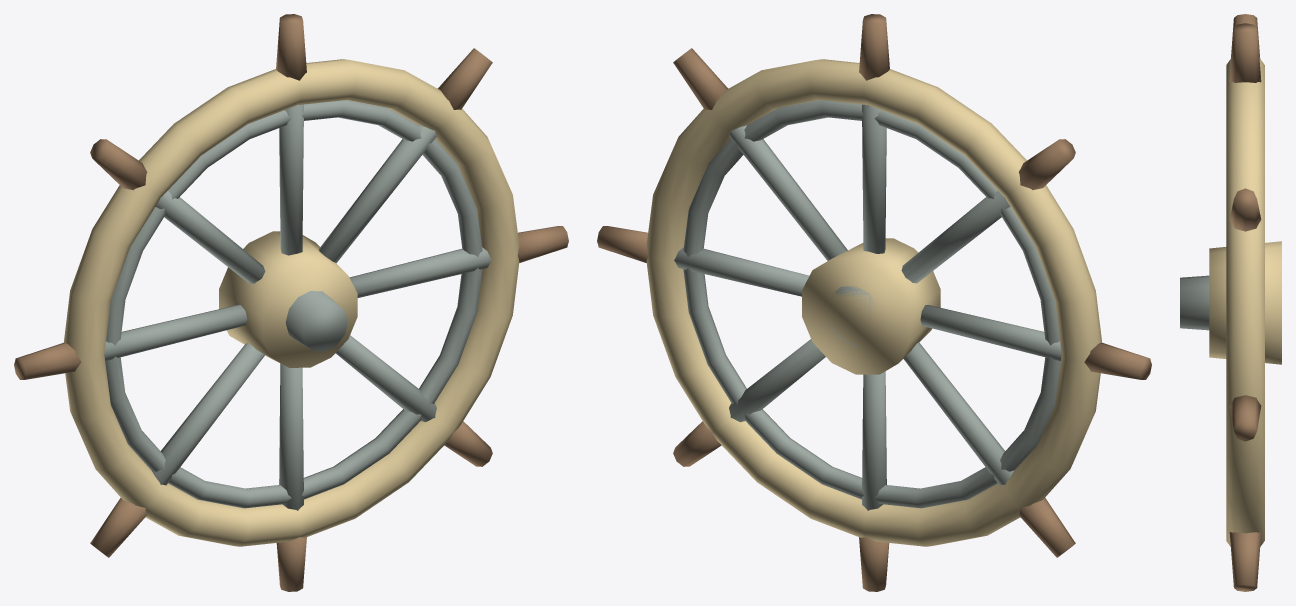
Rendered from sub-helm-wheel.glb.
3 views of the same model, side by side, from view 1: azimuth 30°, elevation 25°; view 2: azimuth 150°, elevation 25°; view 3: azimuth 270°, elevation 25° (orthographic). The views are drawn at different scales.
Parts seen in each view (by area): view 1: HelmWheel; view 2: HelmWheel; view 3: HelmWheel.
Part boxes in pixels (x1=…): HelmWheel: x1=14, y1=14, x2=568, y2=591; HelmWheel: x1=597, y1=14, x2=1151, y2=591; HelmWheel: x1=1180, y1=14, x2=1281, y2=591.
Bounding box in the file's own units: 0.835 × 0.835 × 0.14.
